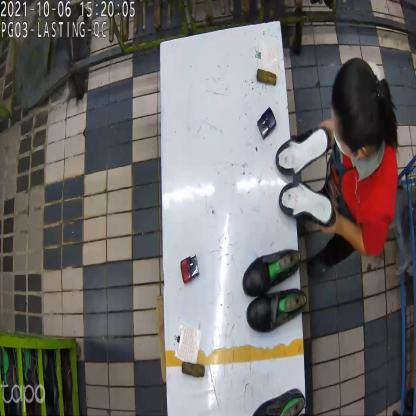shoes: (274, 125, 338, 228), (240, 247, 309, 337)
stamp: (257, 106, 276, 140), (180, 253, 199, 285)
